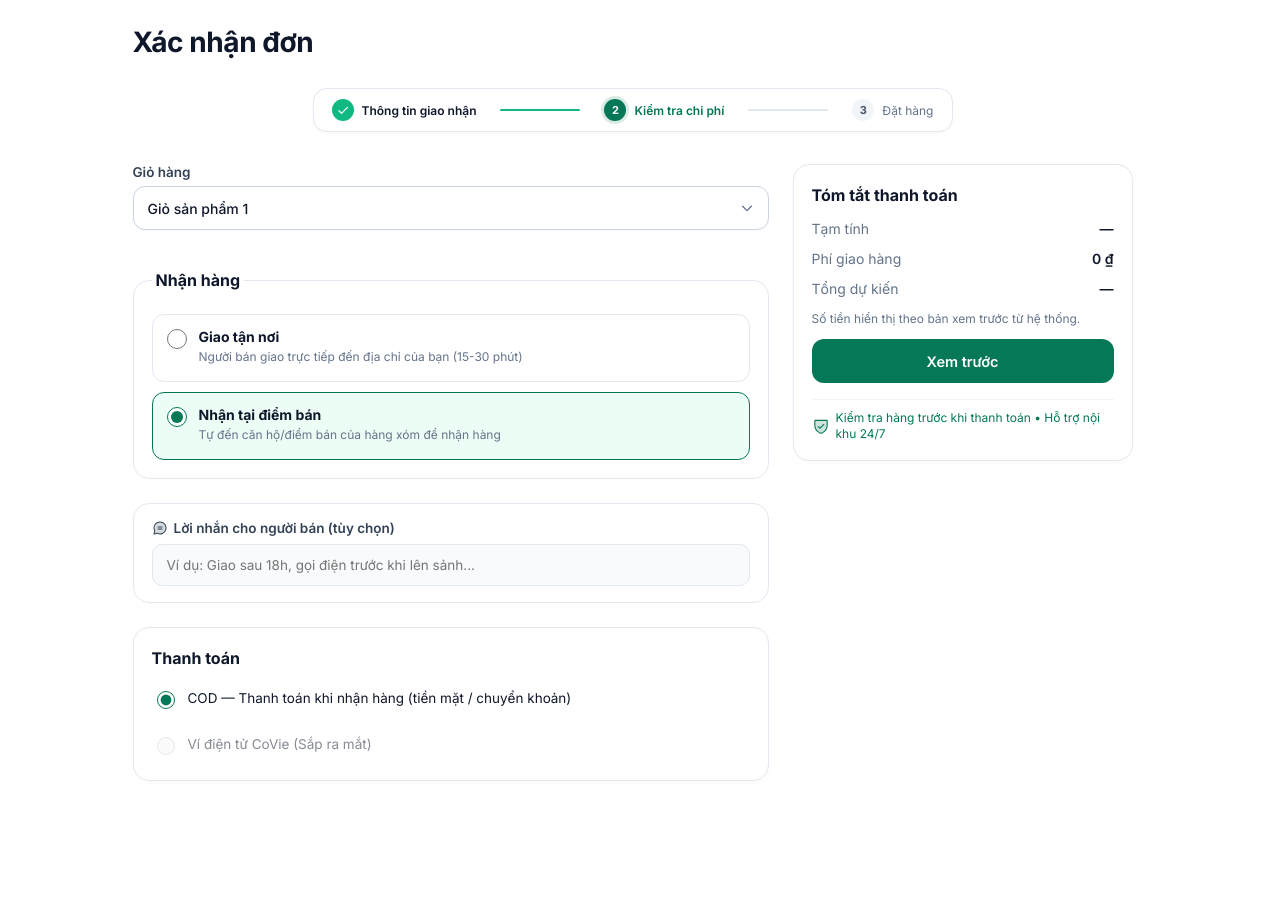
it: disables the cart selection while a commit is pending
The image size is (1280, 900).
Click the button "Xem trước" at (962, 361), box [812, 339, 1114, 383]
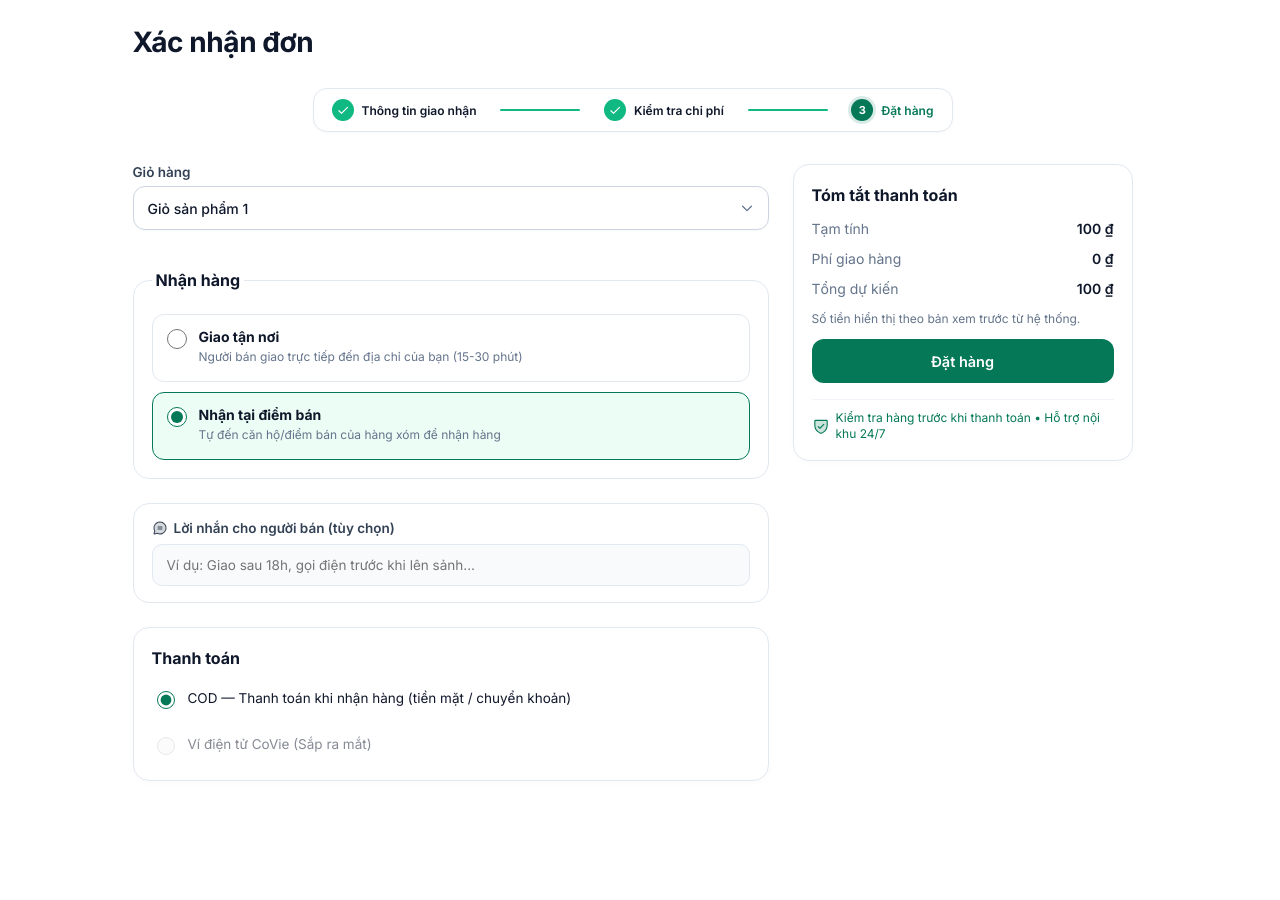
Click the button "Đặt hàng" at (962, 361), box [812, 339, 1114, 383]
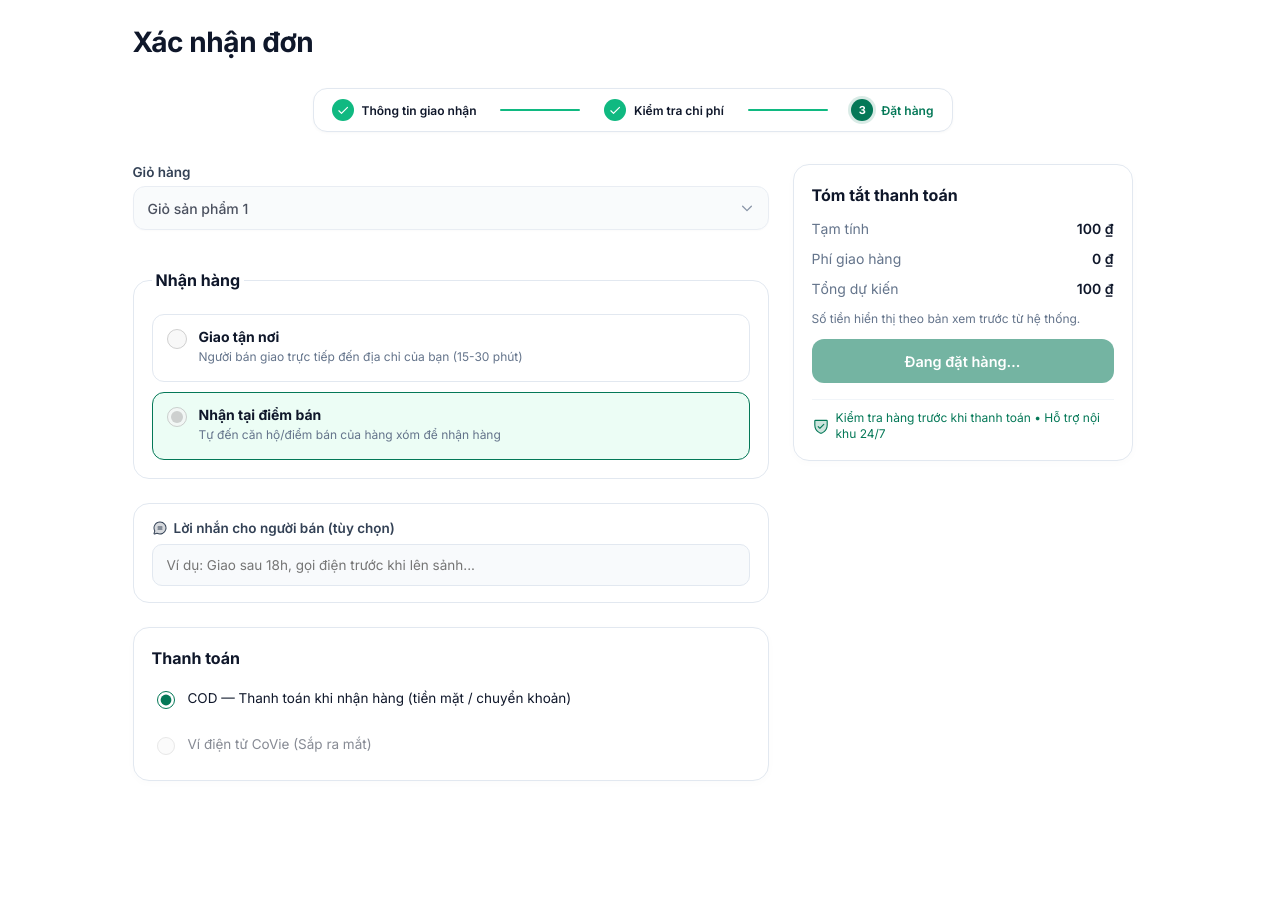
Expected: the dropdown named "Giỏ hàng" is disabled, [132, 186, 768, 230]
